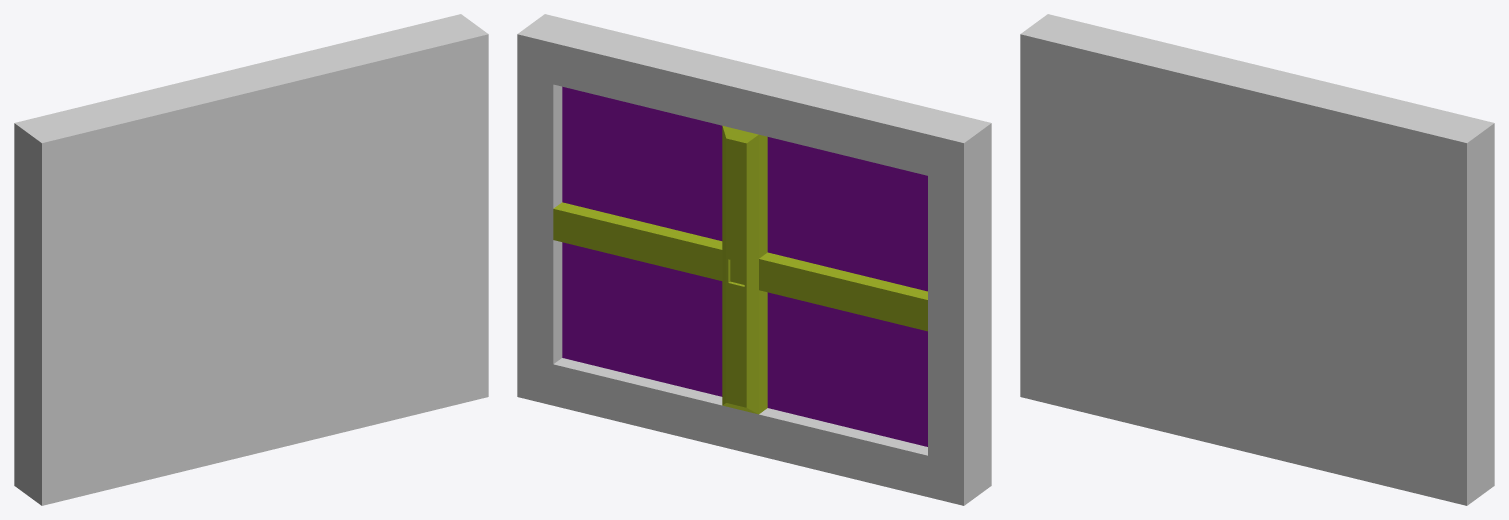
The model's file is Window02_low.fbx.
3 renders of one model, left to right at view 1: azimuth 30°, elevation 25°; view 2: azimuth 150°, elevation 25°; view 3: azimuth 330°, elevation 25°, orthographic.
Visible parts, largest first — view 1: Window02_low; view 2: Window02_low; view 3: Window02_low.
Part boxes in pixels (x1,y1,x2,y2): Window02_low: (14,14,488,505); Window02_low: (517,14,991,505); Window02_low: (1020,14,1494,505).
Bounding box in the file's own units: 33.99 × 4.19 × 26.37.
